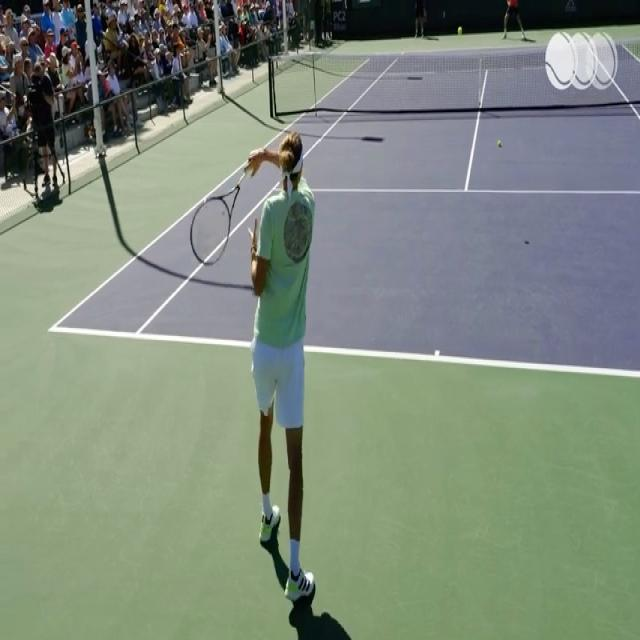forehand-finish: (191, 130, 323, 612)
